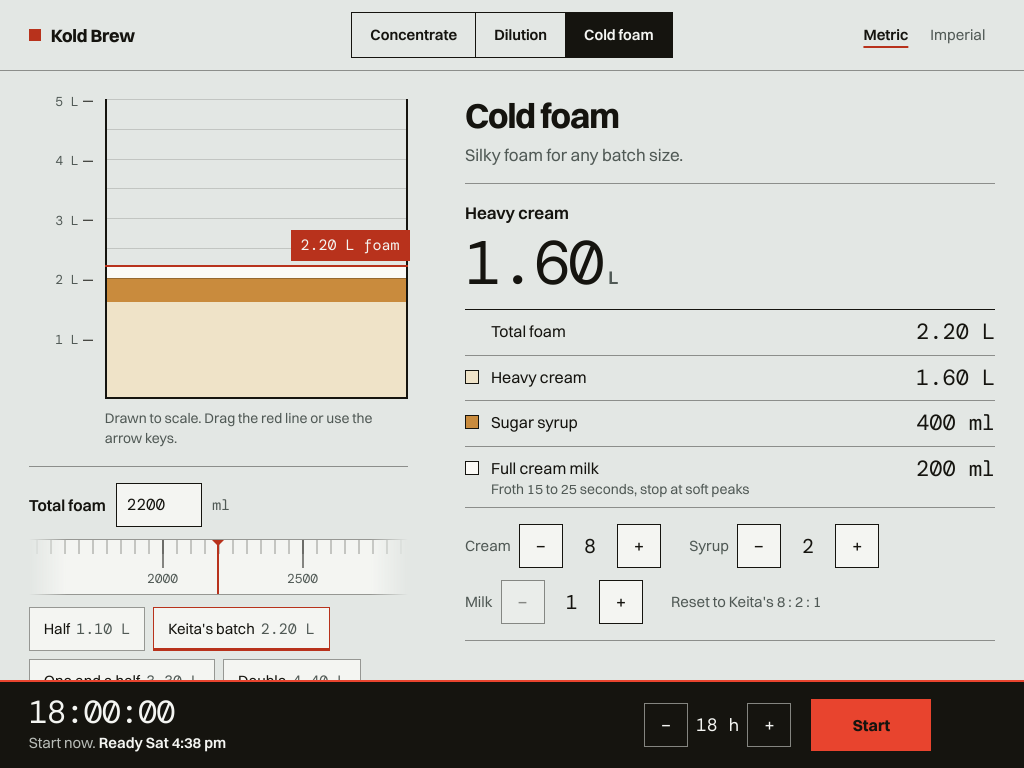
Calculators › foam preset glides to the new batch (reduced motion: instant)
Click the button "Half1.10 L" at (87, 629), box [29, 607, 145, 651]
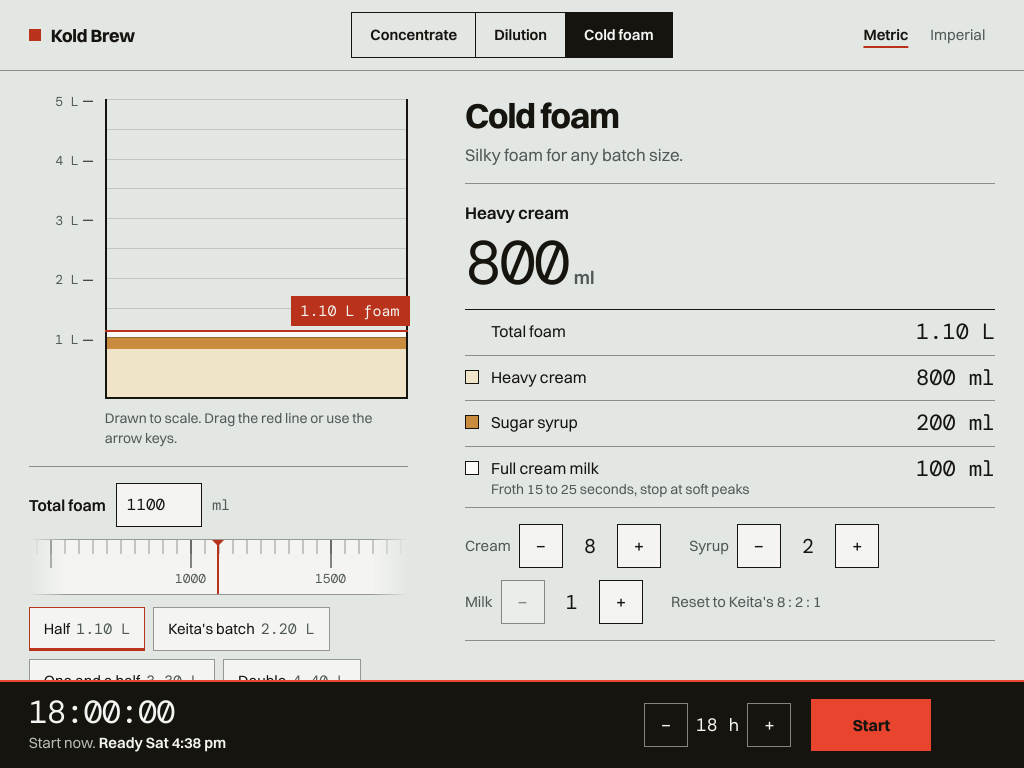
expect the element with test id "lead-value" reads "800 ml": met, box [465, 223, 595, 303]
